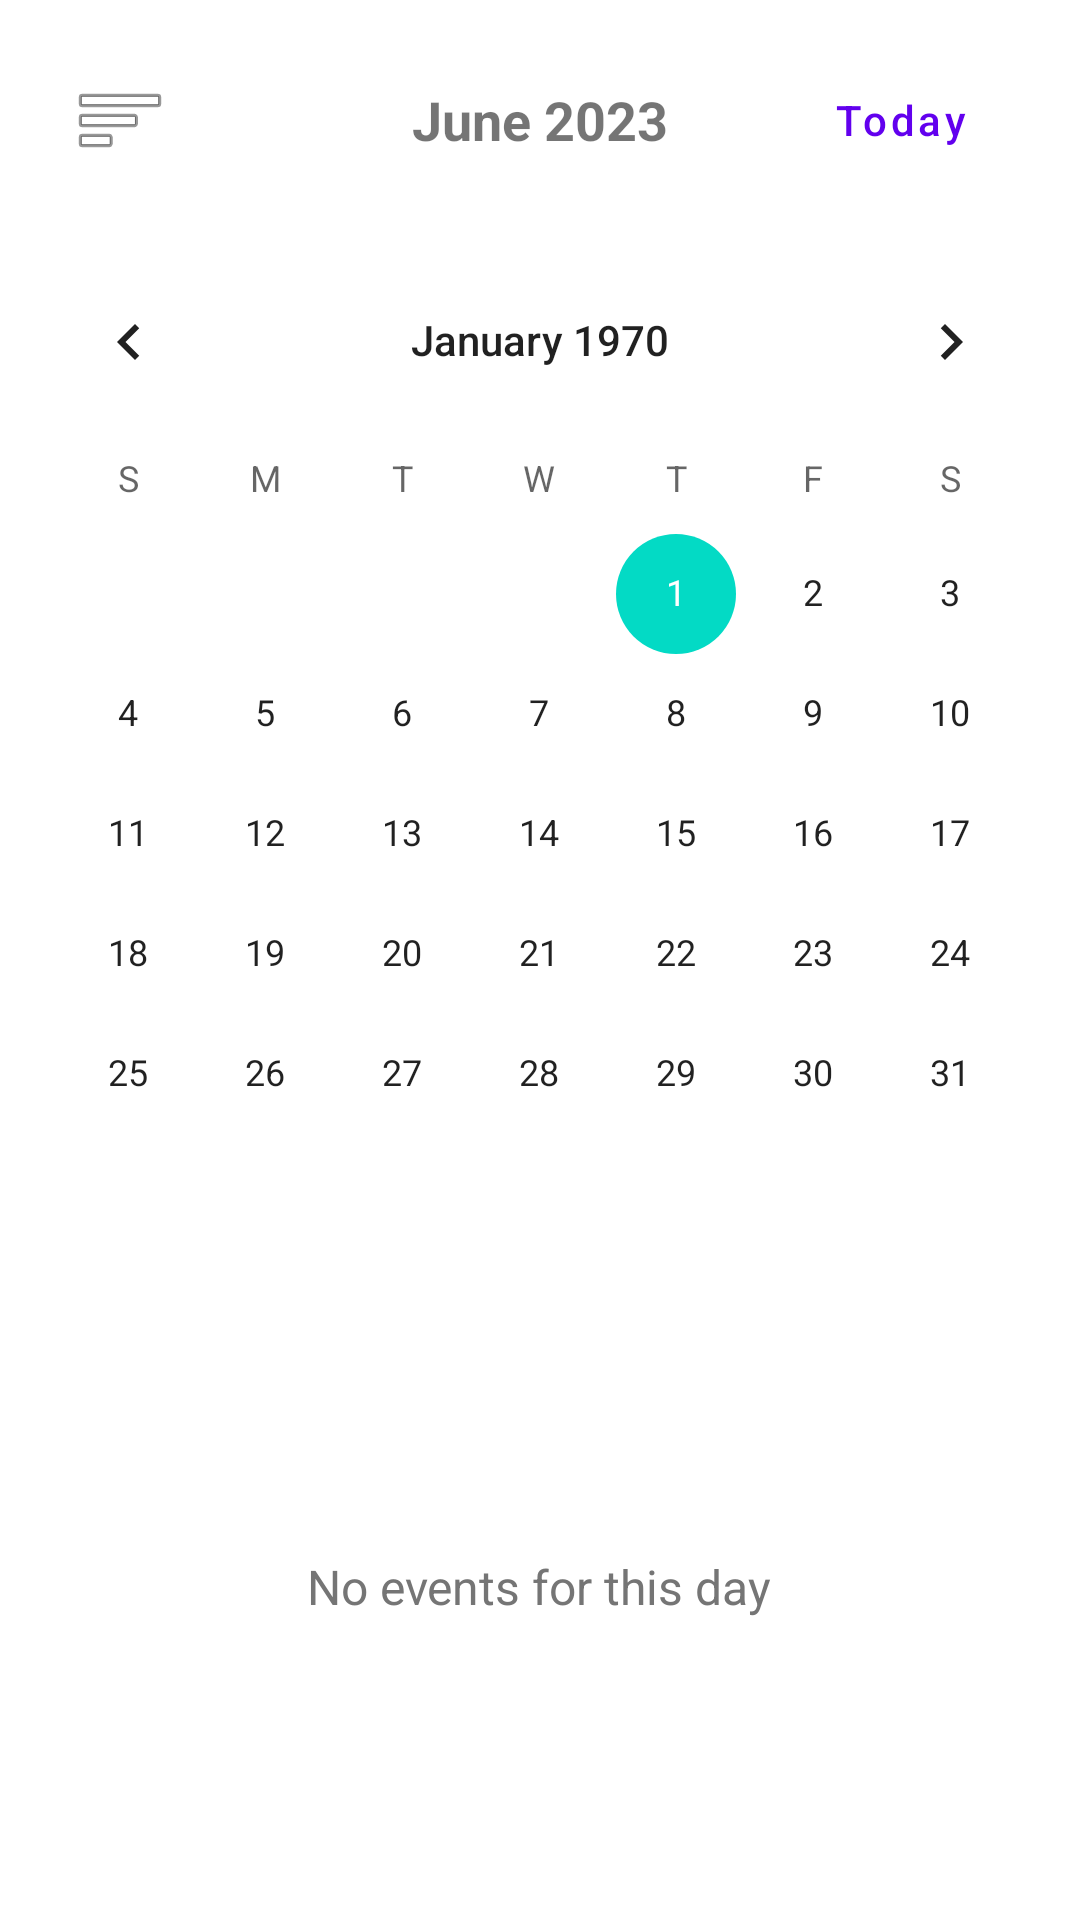

Icons on this 1080px×1920px Android screen, each with the point to tap as (x,y):
Menu: (120,120)
